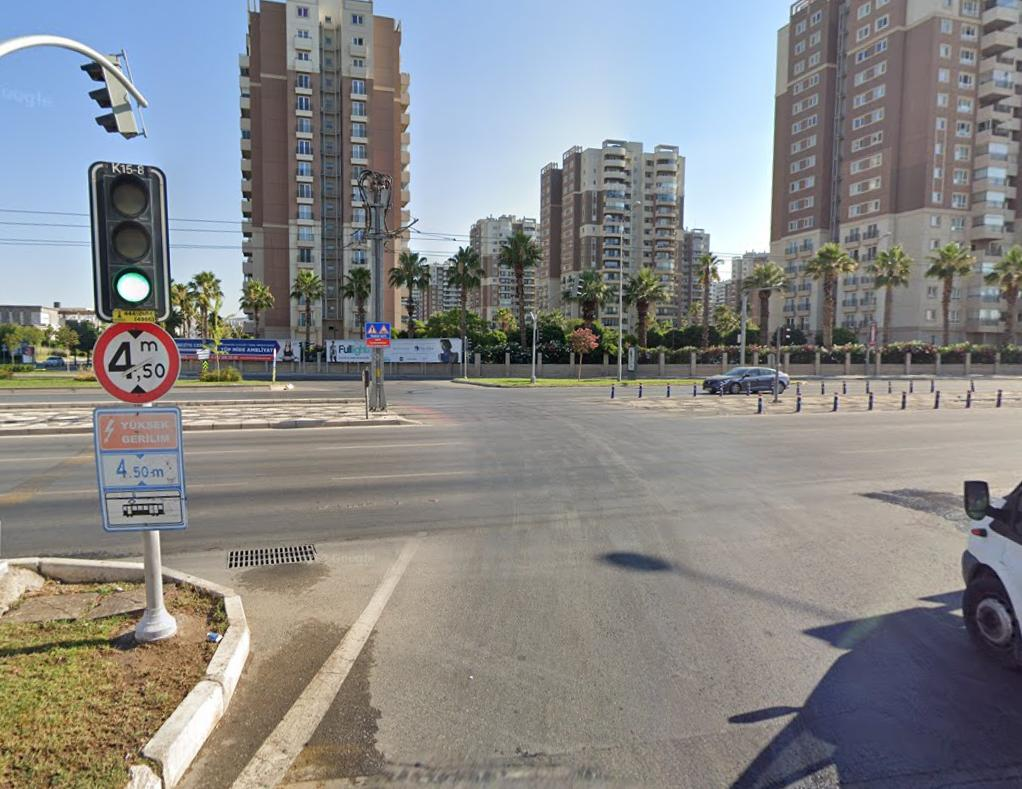greenlight: (96, 162, 160, 307)
